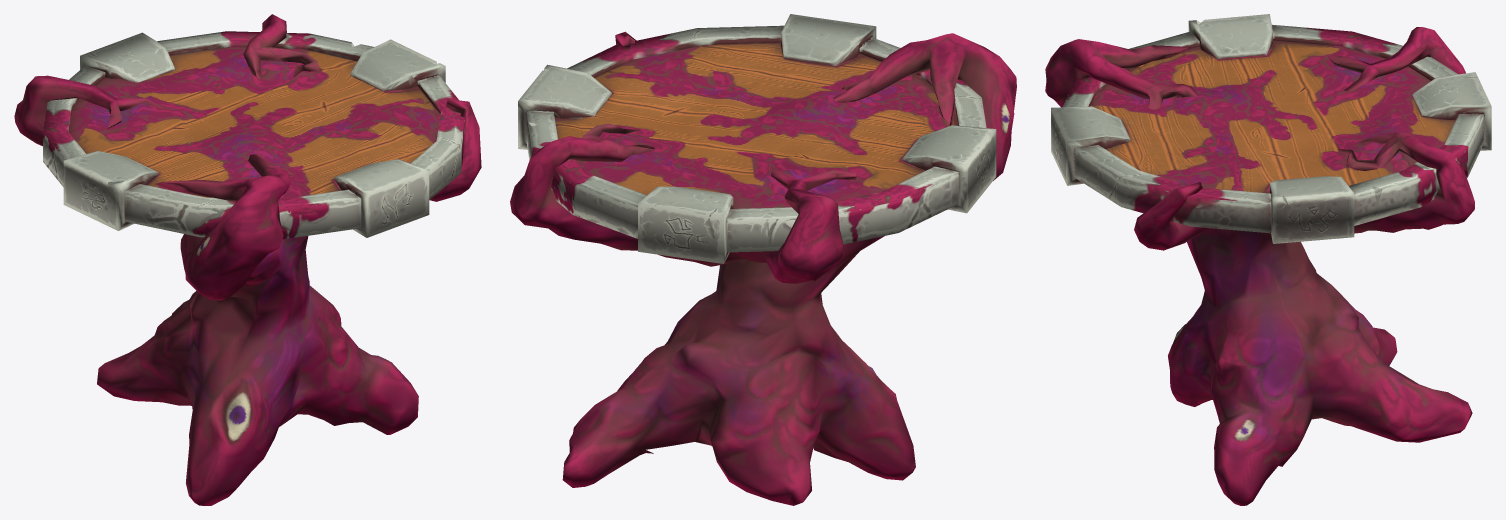
File: Table.fbx
3 views of the same model, side by side, from view 1: azimuth 30°, elevation 25°; view 2: azimuth 150°, elevation 25°; view 3: azimuth 270°, elevation 25° (orthographic). The views are drawn at different scales.
Visible parts, largest first — view 1: PBR___Metallic_Roughness_PM3D_ZSphere1_3; view 2: PBR___Metallic_Roughness_PM3D_ZSphere1_3; view 3: PBR___Metallic_Roughness_PM3D_ZSphere1_3.
Boxes of the visible parts, left/top/right/bottom form: PBR___Metallic_Roughness_PM3D_ZSphere1_3: left=14, top=14, right=481, bottom=505; PBR___Metallic_Roughness_PM3D_ZSphere1_3: left=510, top=14, right=1016, bottom=505; PBR___Metallic_Roughness_PM3D_ZSphere1_3: left=1045, top=14, right=1491, bottom=505.
Size of the model in its own units: 174 by 158 by 176.
